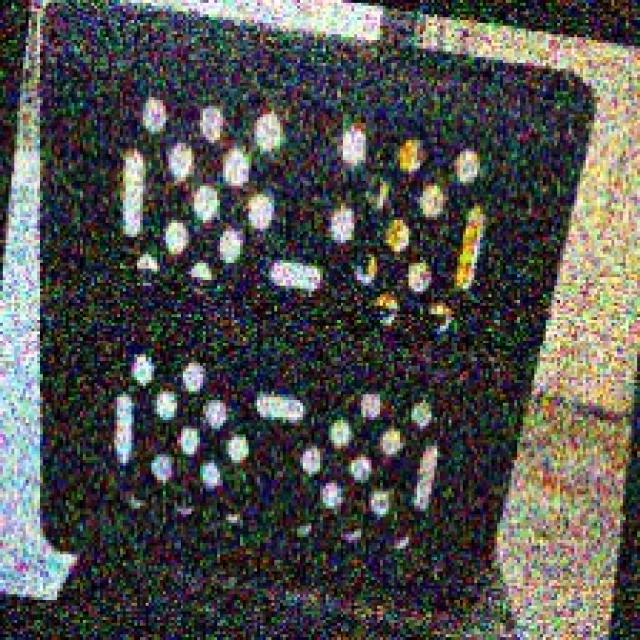igps: (29, 0, 600, 623)
